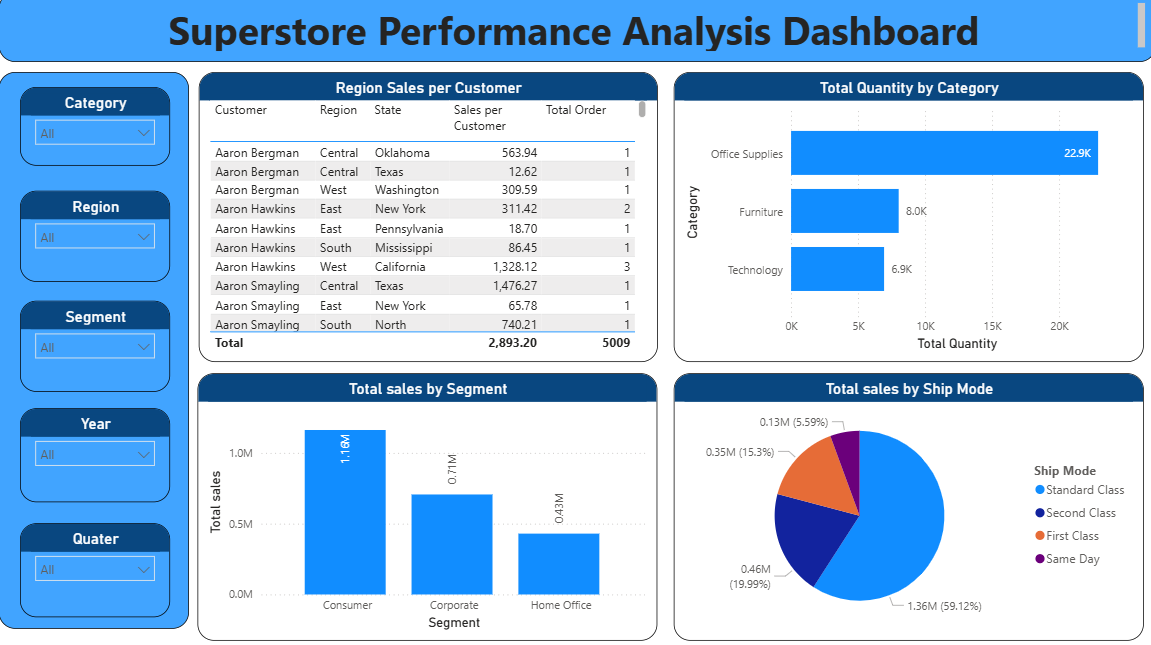

This screenshot's page, from the dashboard's own definition file:
{"tool":"powerbi","page":{"name":"Product Performance","canvas":[1280,720],"ordinal":1},"visuals":[{"type":"textbox","box":[9.8,88,209.1,611.4],"z":0},{"type":"slicer","title":"Category","fields":{"Values":["product.Category"]},"box":[32.5,104.2,165.1,86.6],"z":1},{"type":"slicer","title":"Region","fields":{"Values":["geography.Region"]},"box":[32.5,217.9,165.1,100.1],"z":2},{"type":"slicer","title":"Year","fields":{"Values":["order.Order Date.Variation.Date Hierarchy.Year"]},"box":[32.5,457.4,165.1,102.9],"z":3},{"type":"slicer","title":"Quater","fields":{"Values":["order.Order Date.Variation.Date Hierarchy.Quarter"]},"box":[32.5,583.3,165.1,102.9],"z":4},{"type":"slicer","title":"Segment","fields":{"Values":["product.Sub-Category"]},"box":[32.5,338.3,165.1,100.1],"z":5},{"type":"textbox","box":[9.3,0,1270.7,76.8],"z":6},{"type":"barChart","fields":{"Category":["product.Category"],"Y":["transaction.Total Quantity"]},"box":[750.6,87.8,516,318.4],"z":8},{"type":"clusteredColumnChart","fields":{"Category":["customer.Segment"],"Y":["transaction.Total sales"]},"box":[227.8,418.5,505,293.7],"z":9},{"type":"pieChart","fields":{"Category":["order.Ship Mode"],"Y":["transaction.Total sales"]},"box":[750.6,418.5,516,293.7],"z":10},{"type":"tableEx","title":"Region Sales per Customer","fields":{"Values":["customer.Customer","geography.Region","geography.State","order.Sales per Customer","transaction.Total Order"]},"box":[229.2,87.8,503.6,318.4],"z":11}]}

Visuals, with their boxes in screenshot pixels (x1, y1, x2, y2), scaled from the page's 1280x720 canvas onto the 1151x645 screenshot:
textbox: 9, 79, 197, 627
"Category" slicer: 29, 93, 178, 171
"Region" slicer: 29, 195, 178, 285
"Year" slicer: 29, 410, 178, 502
"Quater" slicer: 29, 523, 178, 615
"Segment" slicer: 29, 303, 178, 393
textbox: 8, 0, 1150, 69
barChart - product.Category x transaction.Total Quantity: 675, 79, 1139, 364
clusteredColumnChart - customer.Segment x transaction.Total sales: 205, 375, 659, 638
pieChart - order.Ship Mode x transaction.Total sales: 675, 375, 1139, 638
"Region Sales per Customer" tableEx: 206, 79, 659, 364
